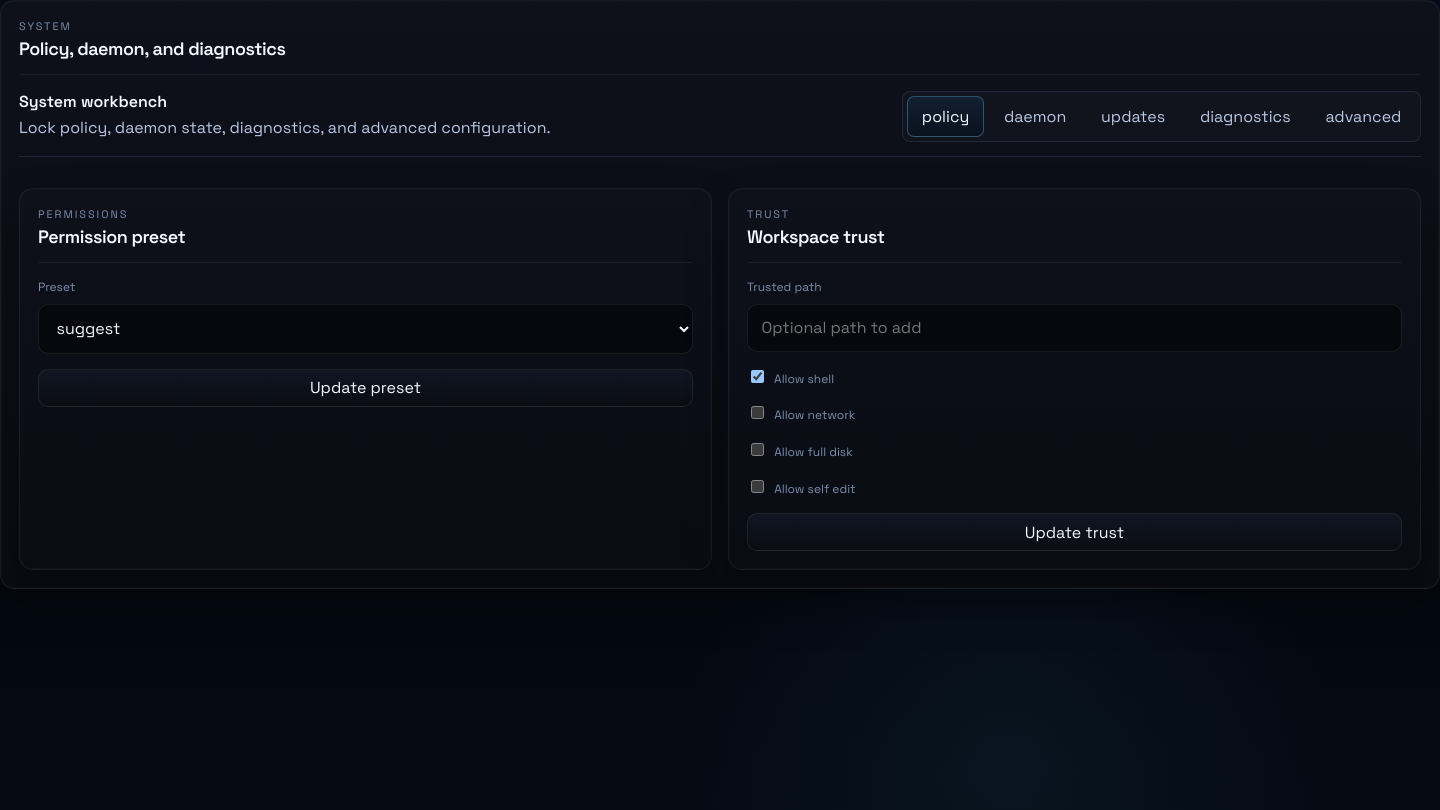
it: SystemPage updates › marks the session as pending when an update starts
Click the button "updates".
click(1133, 116)  # box [1086,96,1180,137]
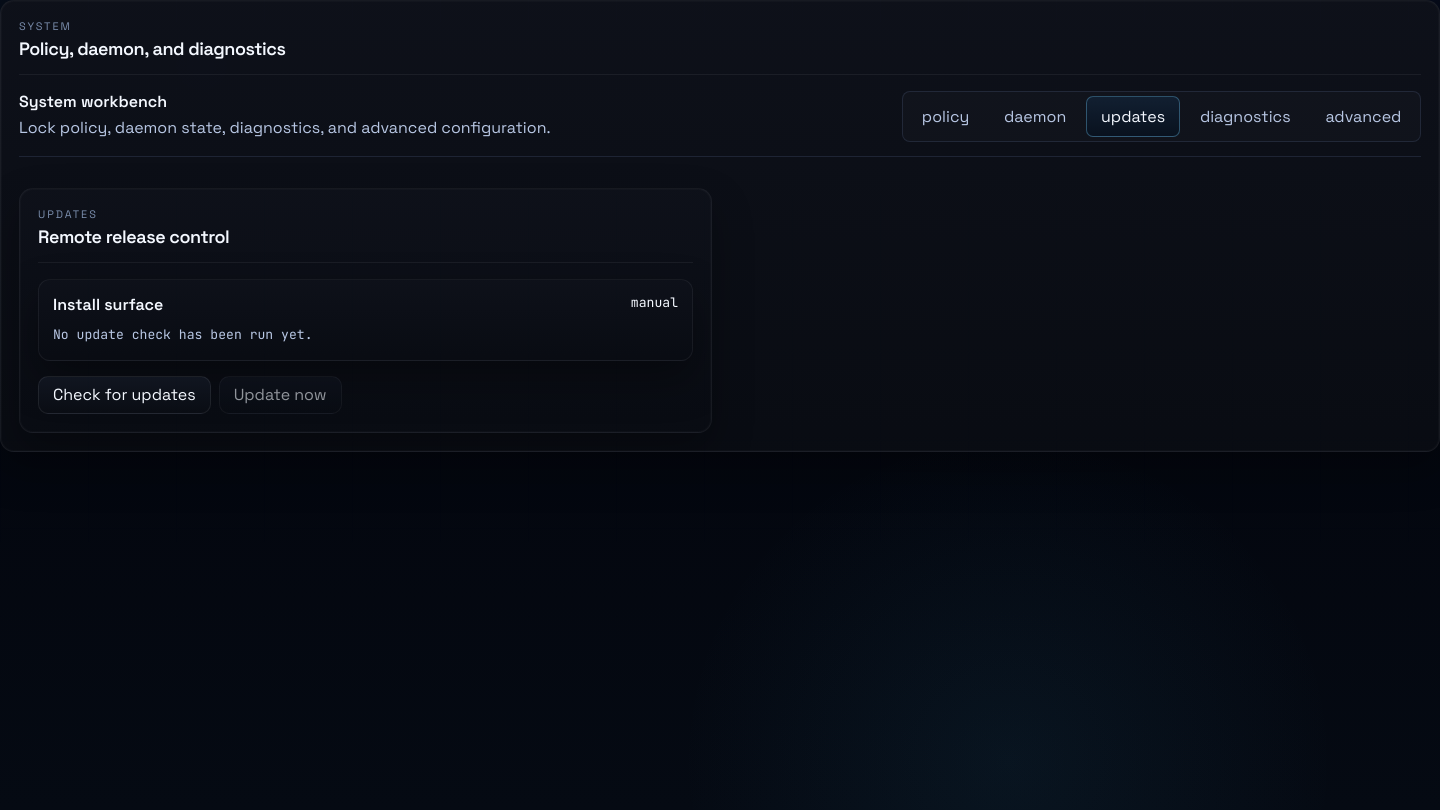
Click the button "Check for updates".
click(124, 395)  # box [38,376,211,414]
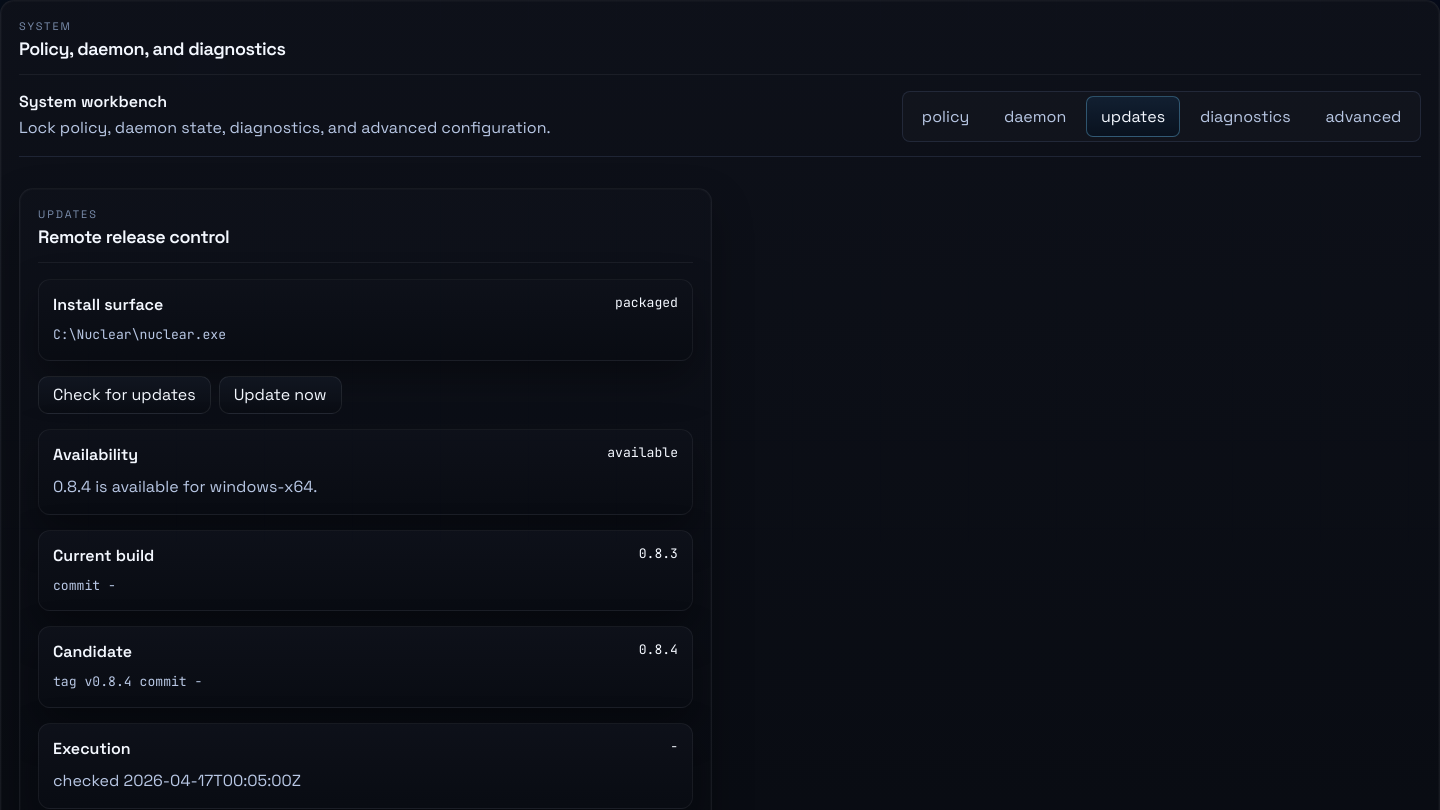
Check: the text "0.8.4 is available for windows-x64." is shown, box [53,476,317,497]
Click the button "Update now".
click(280, 395)  # box [219,376,342,414]
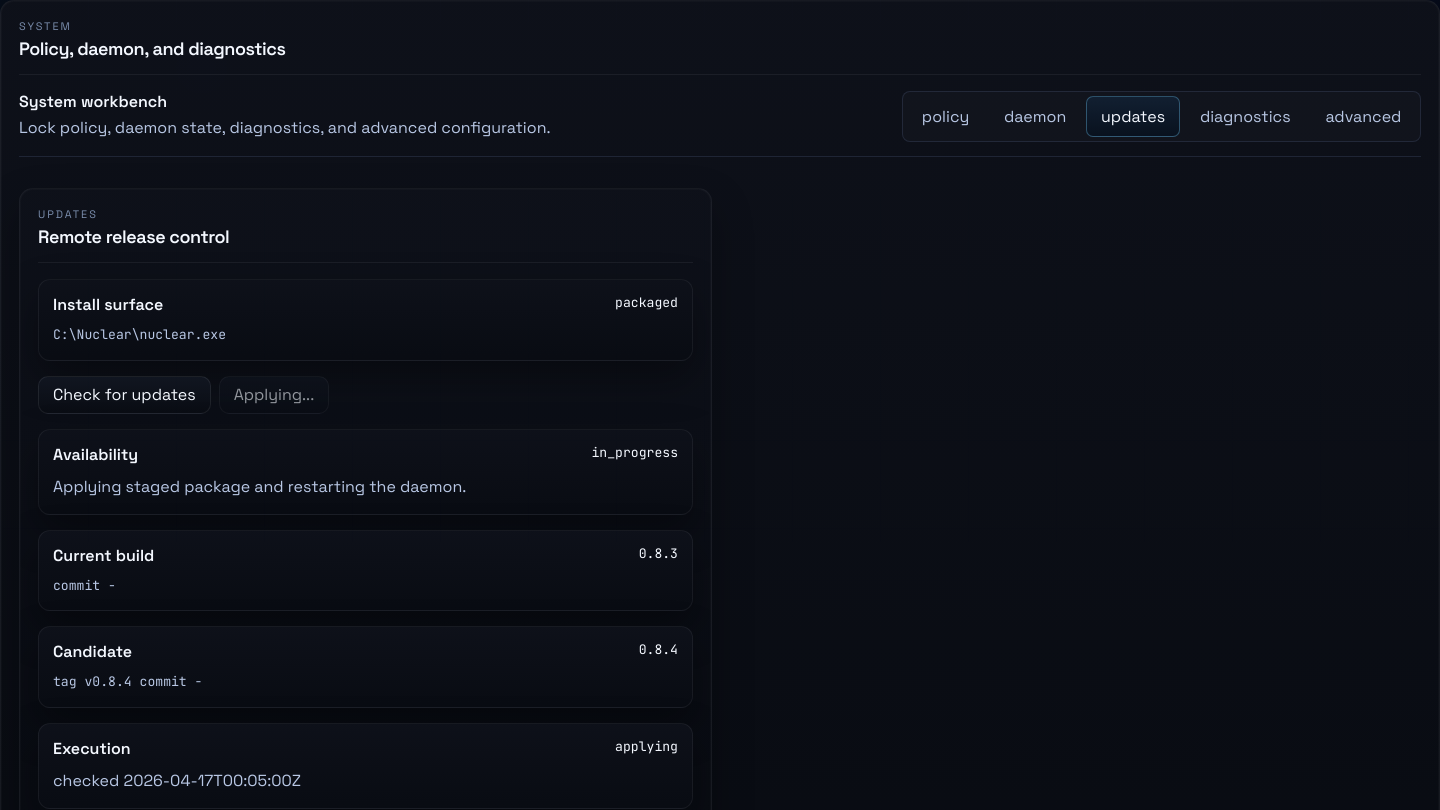
Check: the text "Applying staged package and restarting the daemon." is shown, box [53,476,466,497]
